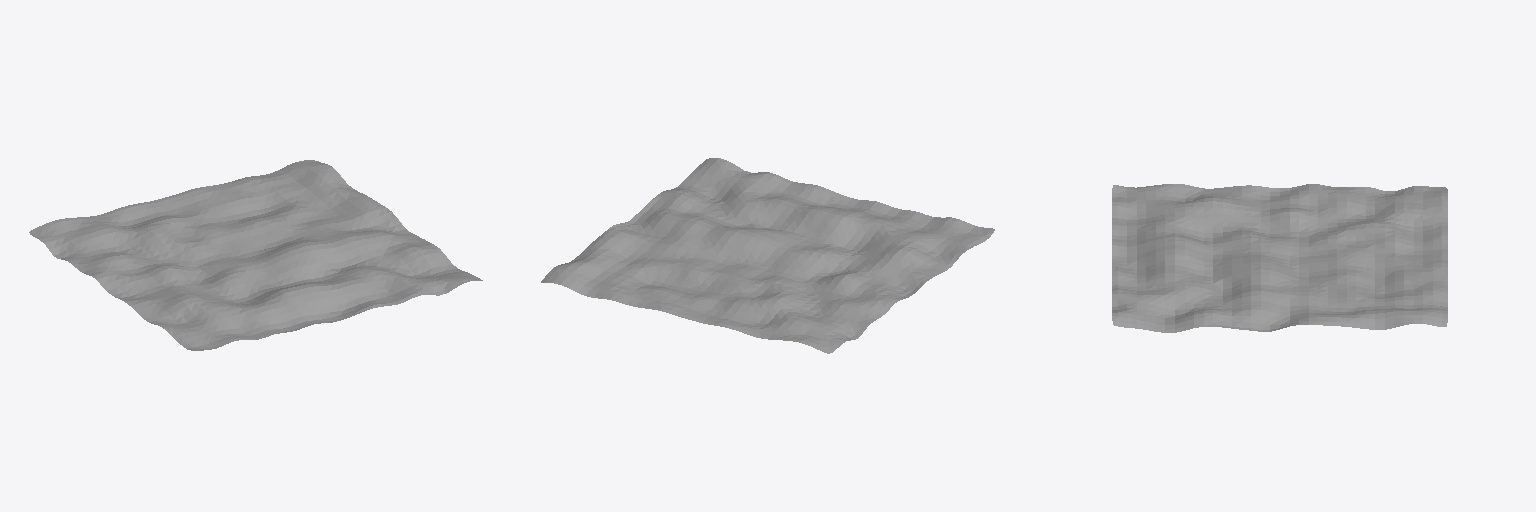
The model's file is water0.obj.
3 views of the same model, side by side, from view 1: azimuth 30°, elevation 25°; view 2: azimuth 150°, elevation 25°; view 3: azimuth 270°, elevation 25° (orthographic).
Visible parts, largest first — view 1: Grid.001; view 2: Grid.001; view 3: Grid.001.
Part boxes in pixels (bbox=[...]): Grid.001: bbox=[29, 160, 482, 350]; Grid.001: bbox=[541, 158, 994, 353]; Grid.001: bbox=[1112, 184, 1447, 332].
Size of the model in its own units: 115 by 5.42 by 115.